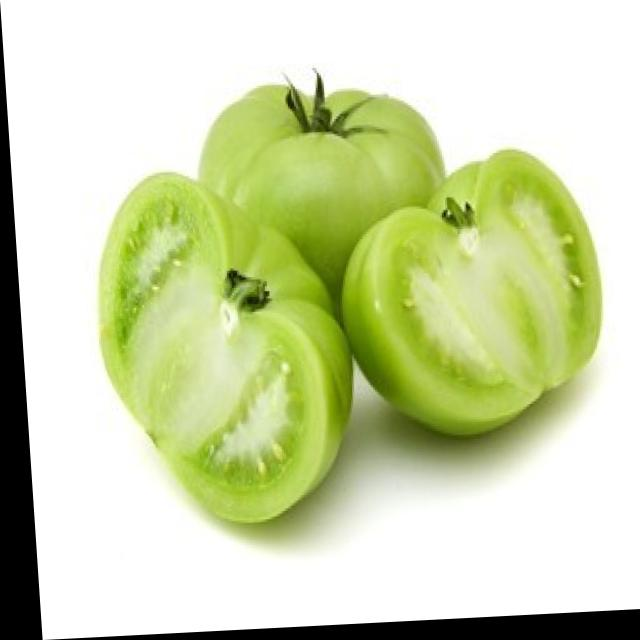yesil: (72, 43, 620, 534)
